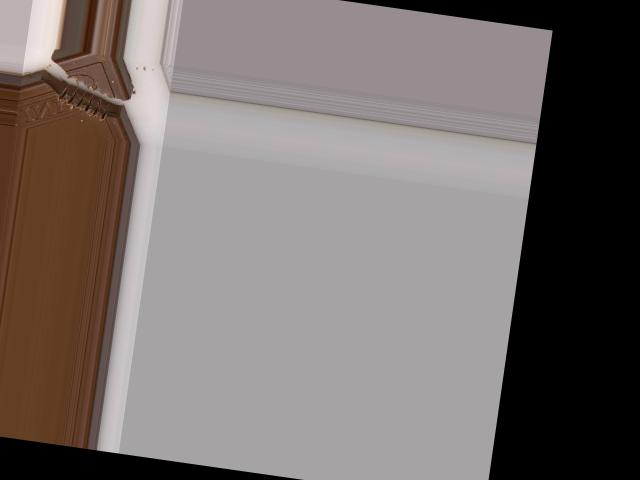chocolate: (15, 43, 153, 143)
